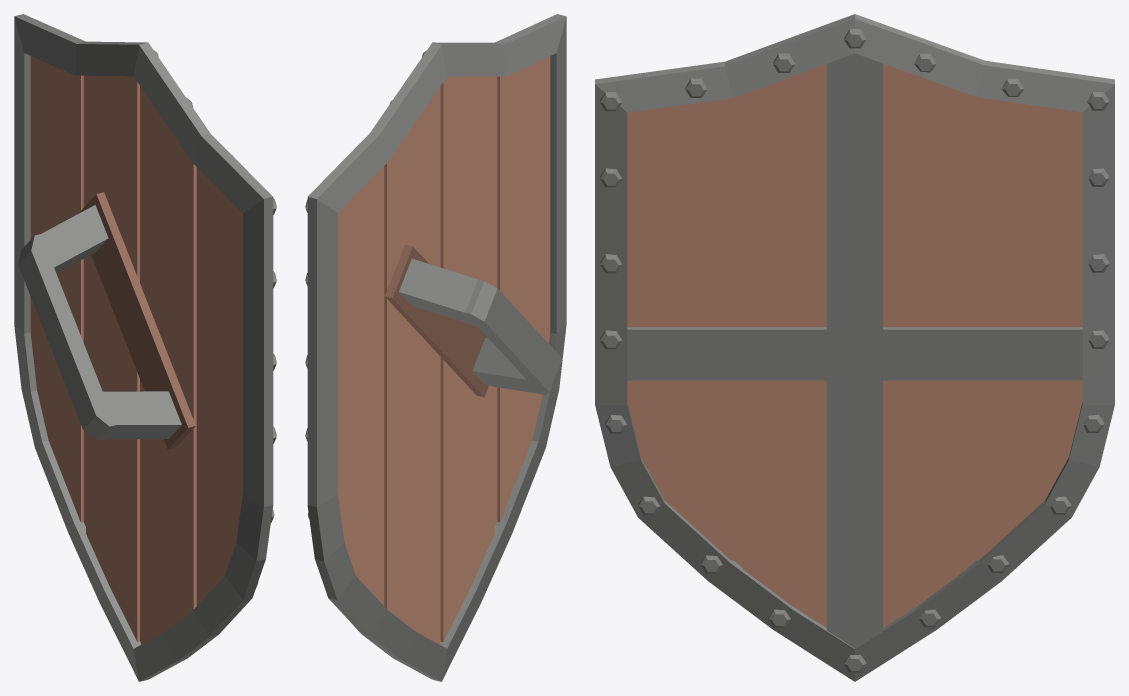
The model's file is Shield D.fbx.
3 renders of one model, left to right at view 1: azimuth 30°, elevation 25°; view 2: azimuth 150°, elevation 25°; view 3: azimuth 270°, elevation 25°, orthographic. The views are drawn at different scales.
Visible parts, largest first — view 1: Shield D; view 2: Shield D; view 3: Shield D.
Part boxes in pixels (x1,y1,x2,y2): Shield D: [14, 14, 276, 681]; Shield D: [305, 14, 566, 681]; Shield D: [595, 14, 1114, 681].
Size of the model in its own units: 18.98 by 117 by 83.11.
